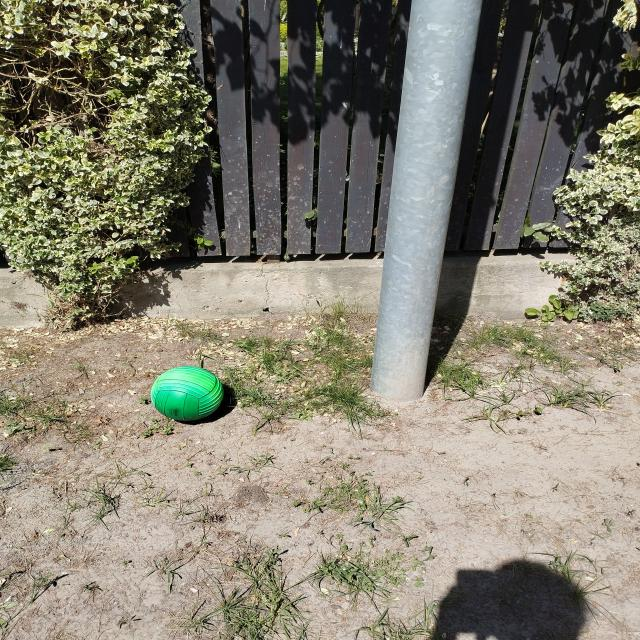zielona: (150, 366, 224, 422)
